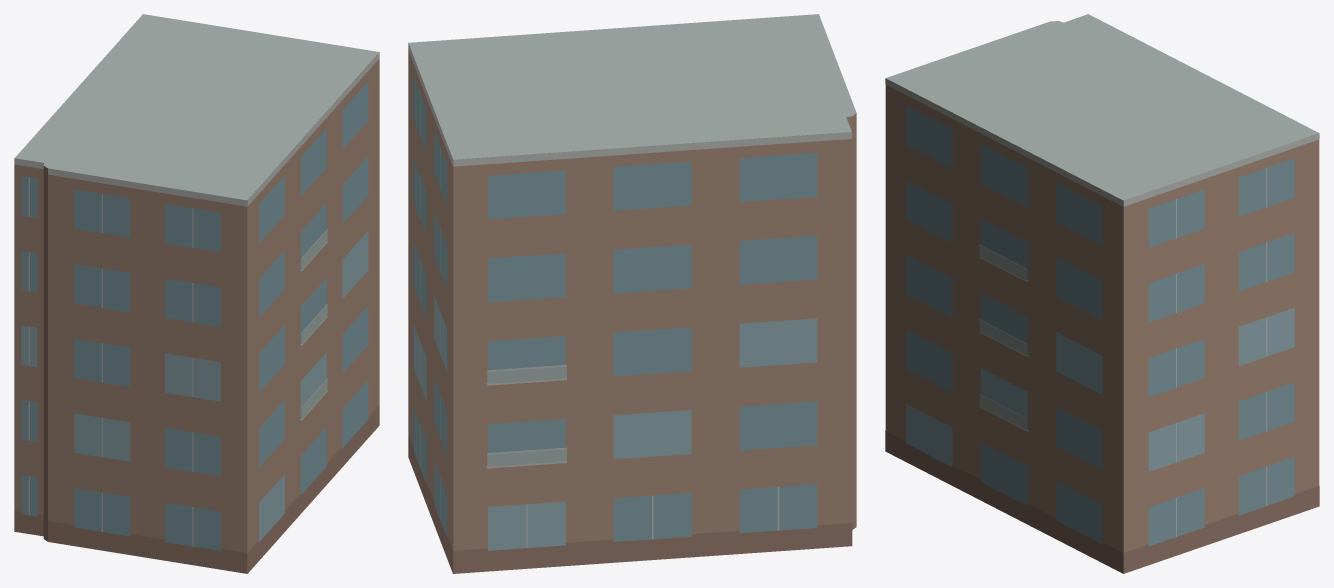
The model's file is survey-upis-33046807.glb.
3 views of the same model, side by side, from view 1: azimuth 30°, elevation 25°; view 2: azimuth 150°, elevation 25°; view 3: azimuth 270°, elevation 25° (orthographic). The views are drawn at different scales.
Visible parts, largest first — view 1: survey-upis-33046807.tmp; view 2: survey-upis-33046807.tmp; view 3: survey-upis-33046807.tmp.
Boxes of the visible parts, x1,y1,x2,y2 form: survey-upis-33046807.tmp: (14,14,379,573); survey-upis-33046807.tmp: (408,14,856,573); survey-upis-33046807.tmp: (885,14,1319,573).
Size of the model in its own units: 15.63 by 14.57 by 15.36.
